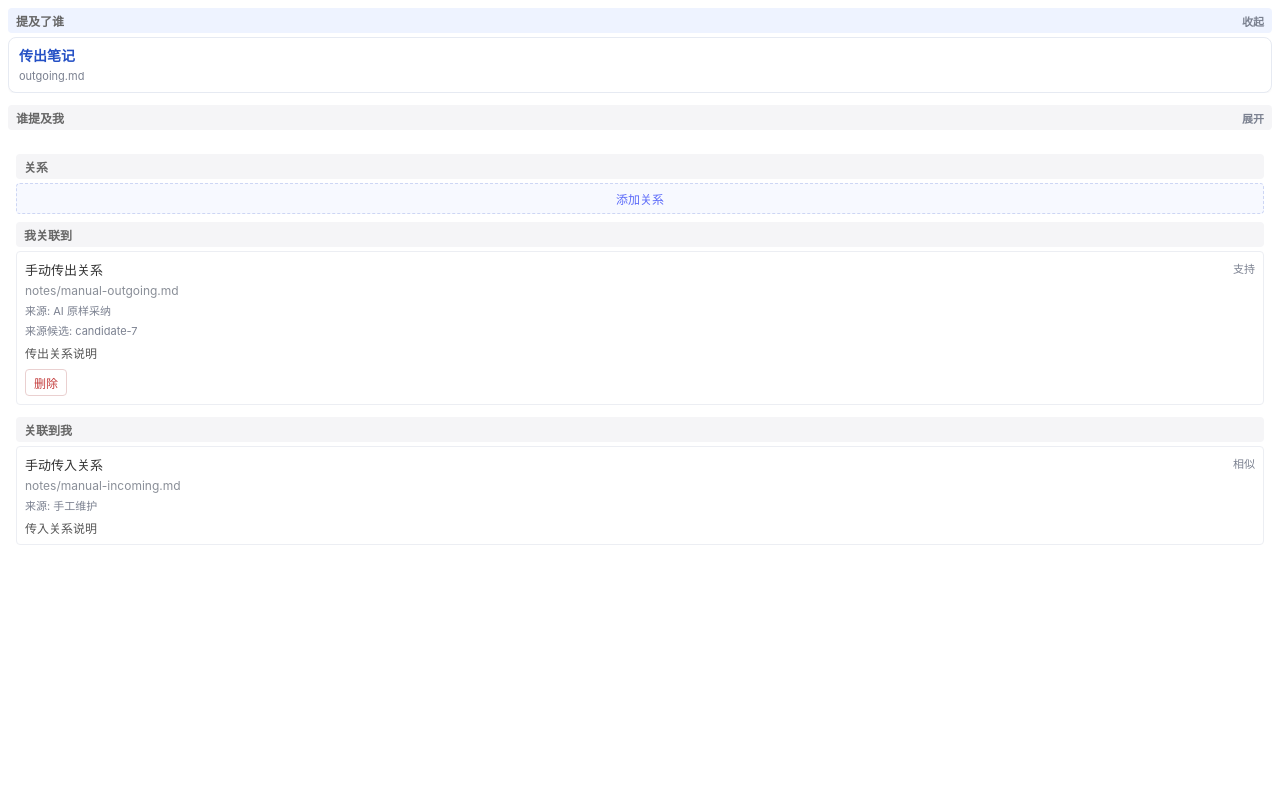
Test: BacklinksPanel › renders auto-link sections and real manual relations together
expect the text "提及了谁" is shown: met, box [16,12,64,29]
expect the text "谁提及我" is shown: met, box [16,109,64,126]
What coordinates should you click on to do the following:
click the button "谁提及我 展开"
I would click on:
 (40, 119)
Its box is [8,105,1272,130].
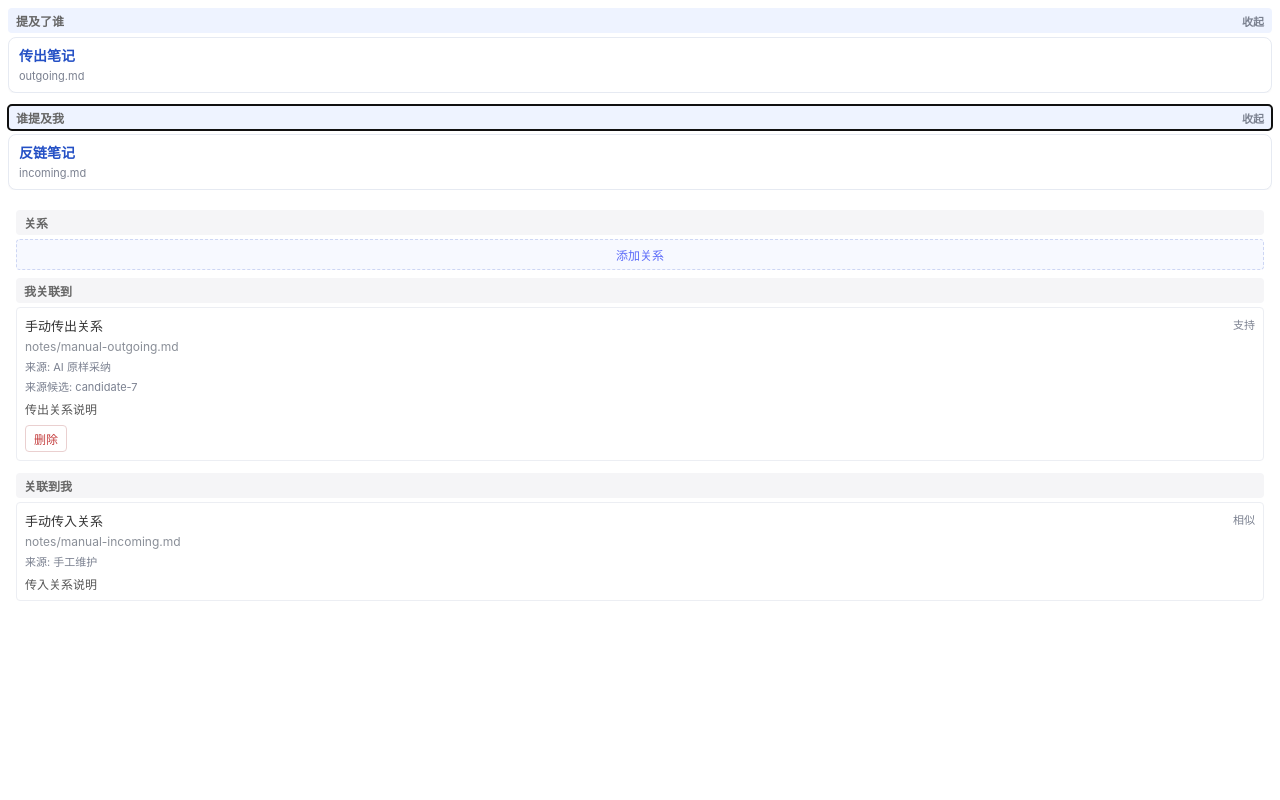
expect the text "反链笔记" is shown: met, box [19,144,75,161]
